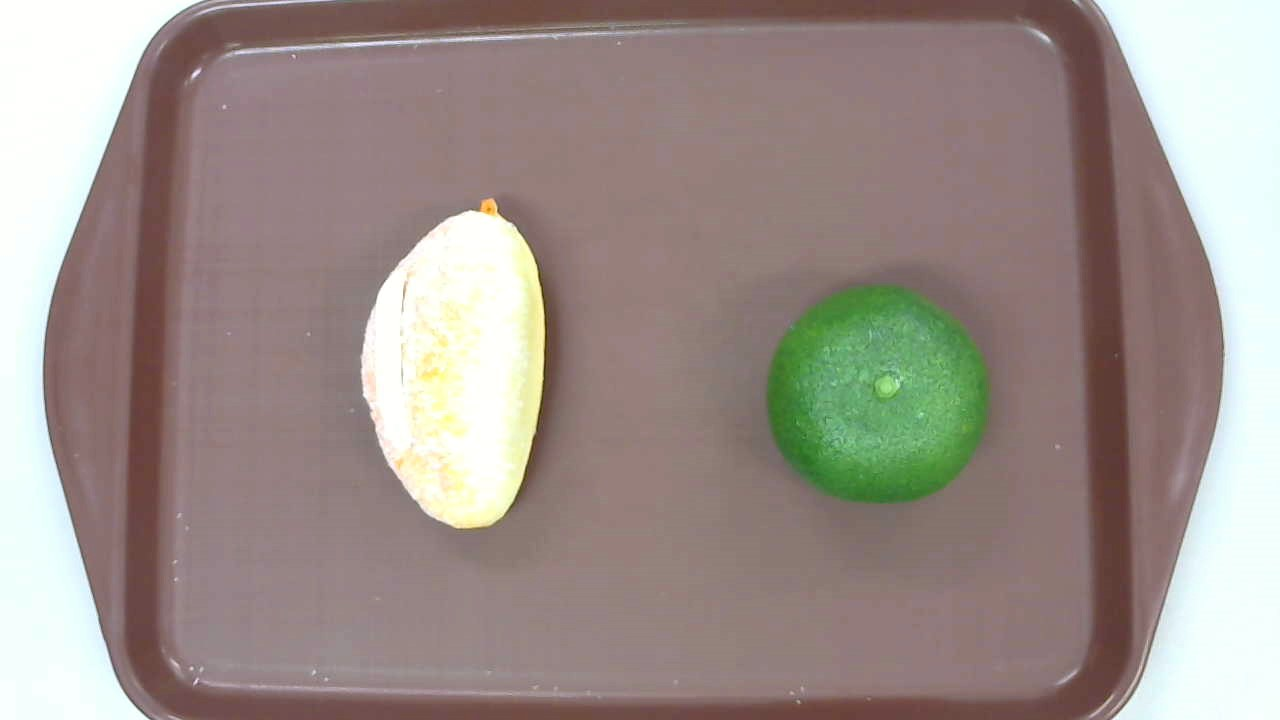coconut: (359, 197, 547, 530)
green orange: (768, 284, 989, 504)
